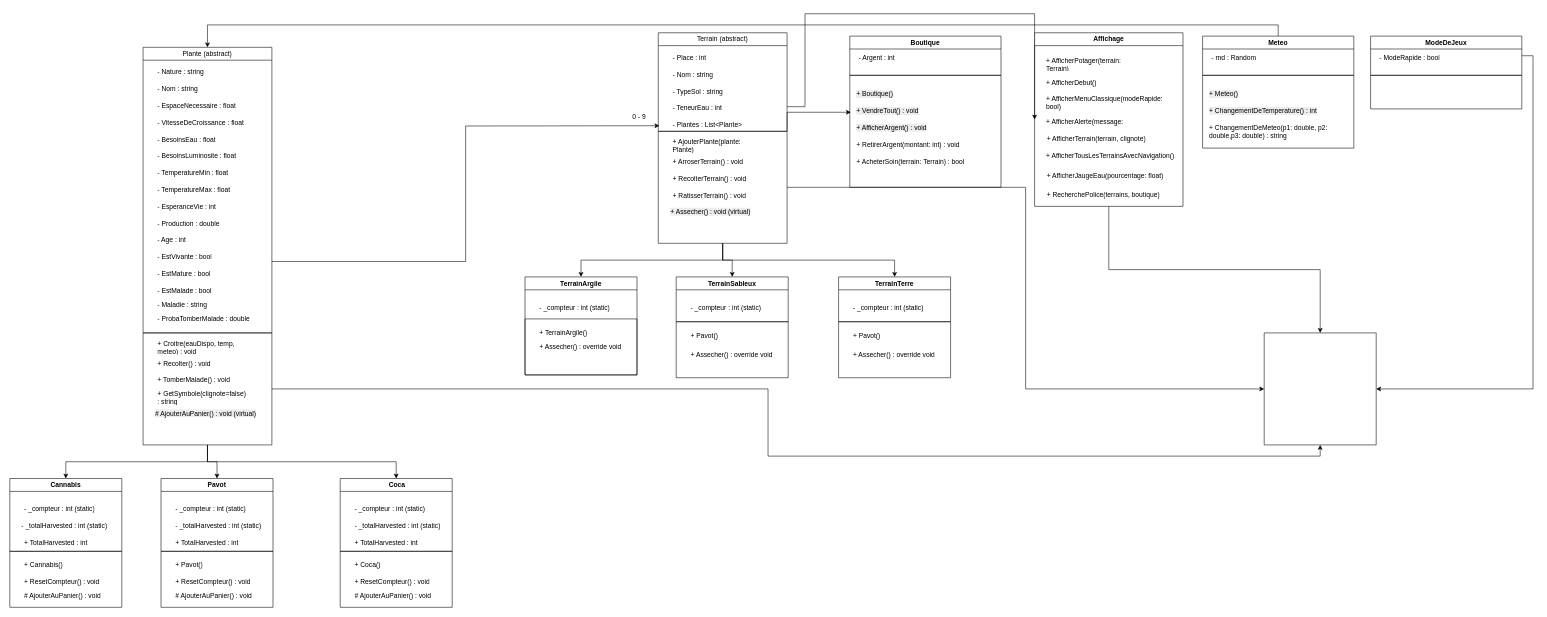
This 1547x617 diagram has some shape labels left out. Each missing label, with the centre of its shape:
"+ ChangerDeMode() : void" goes at (1446,92).
"PROGRAM" goes at (1320,388).
